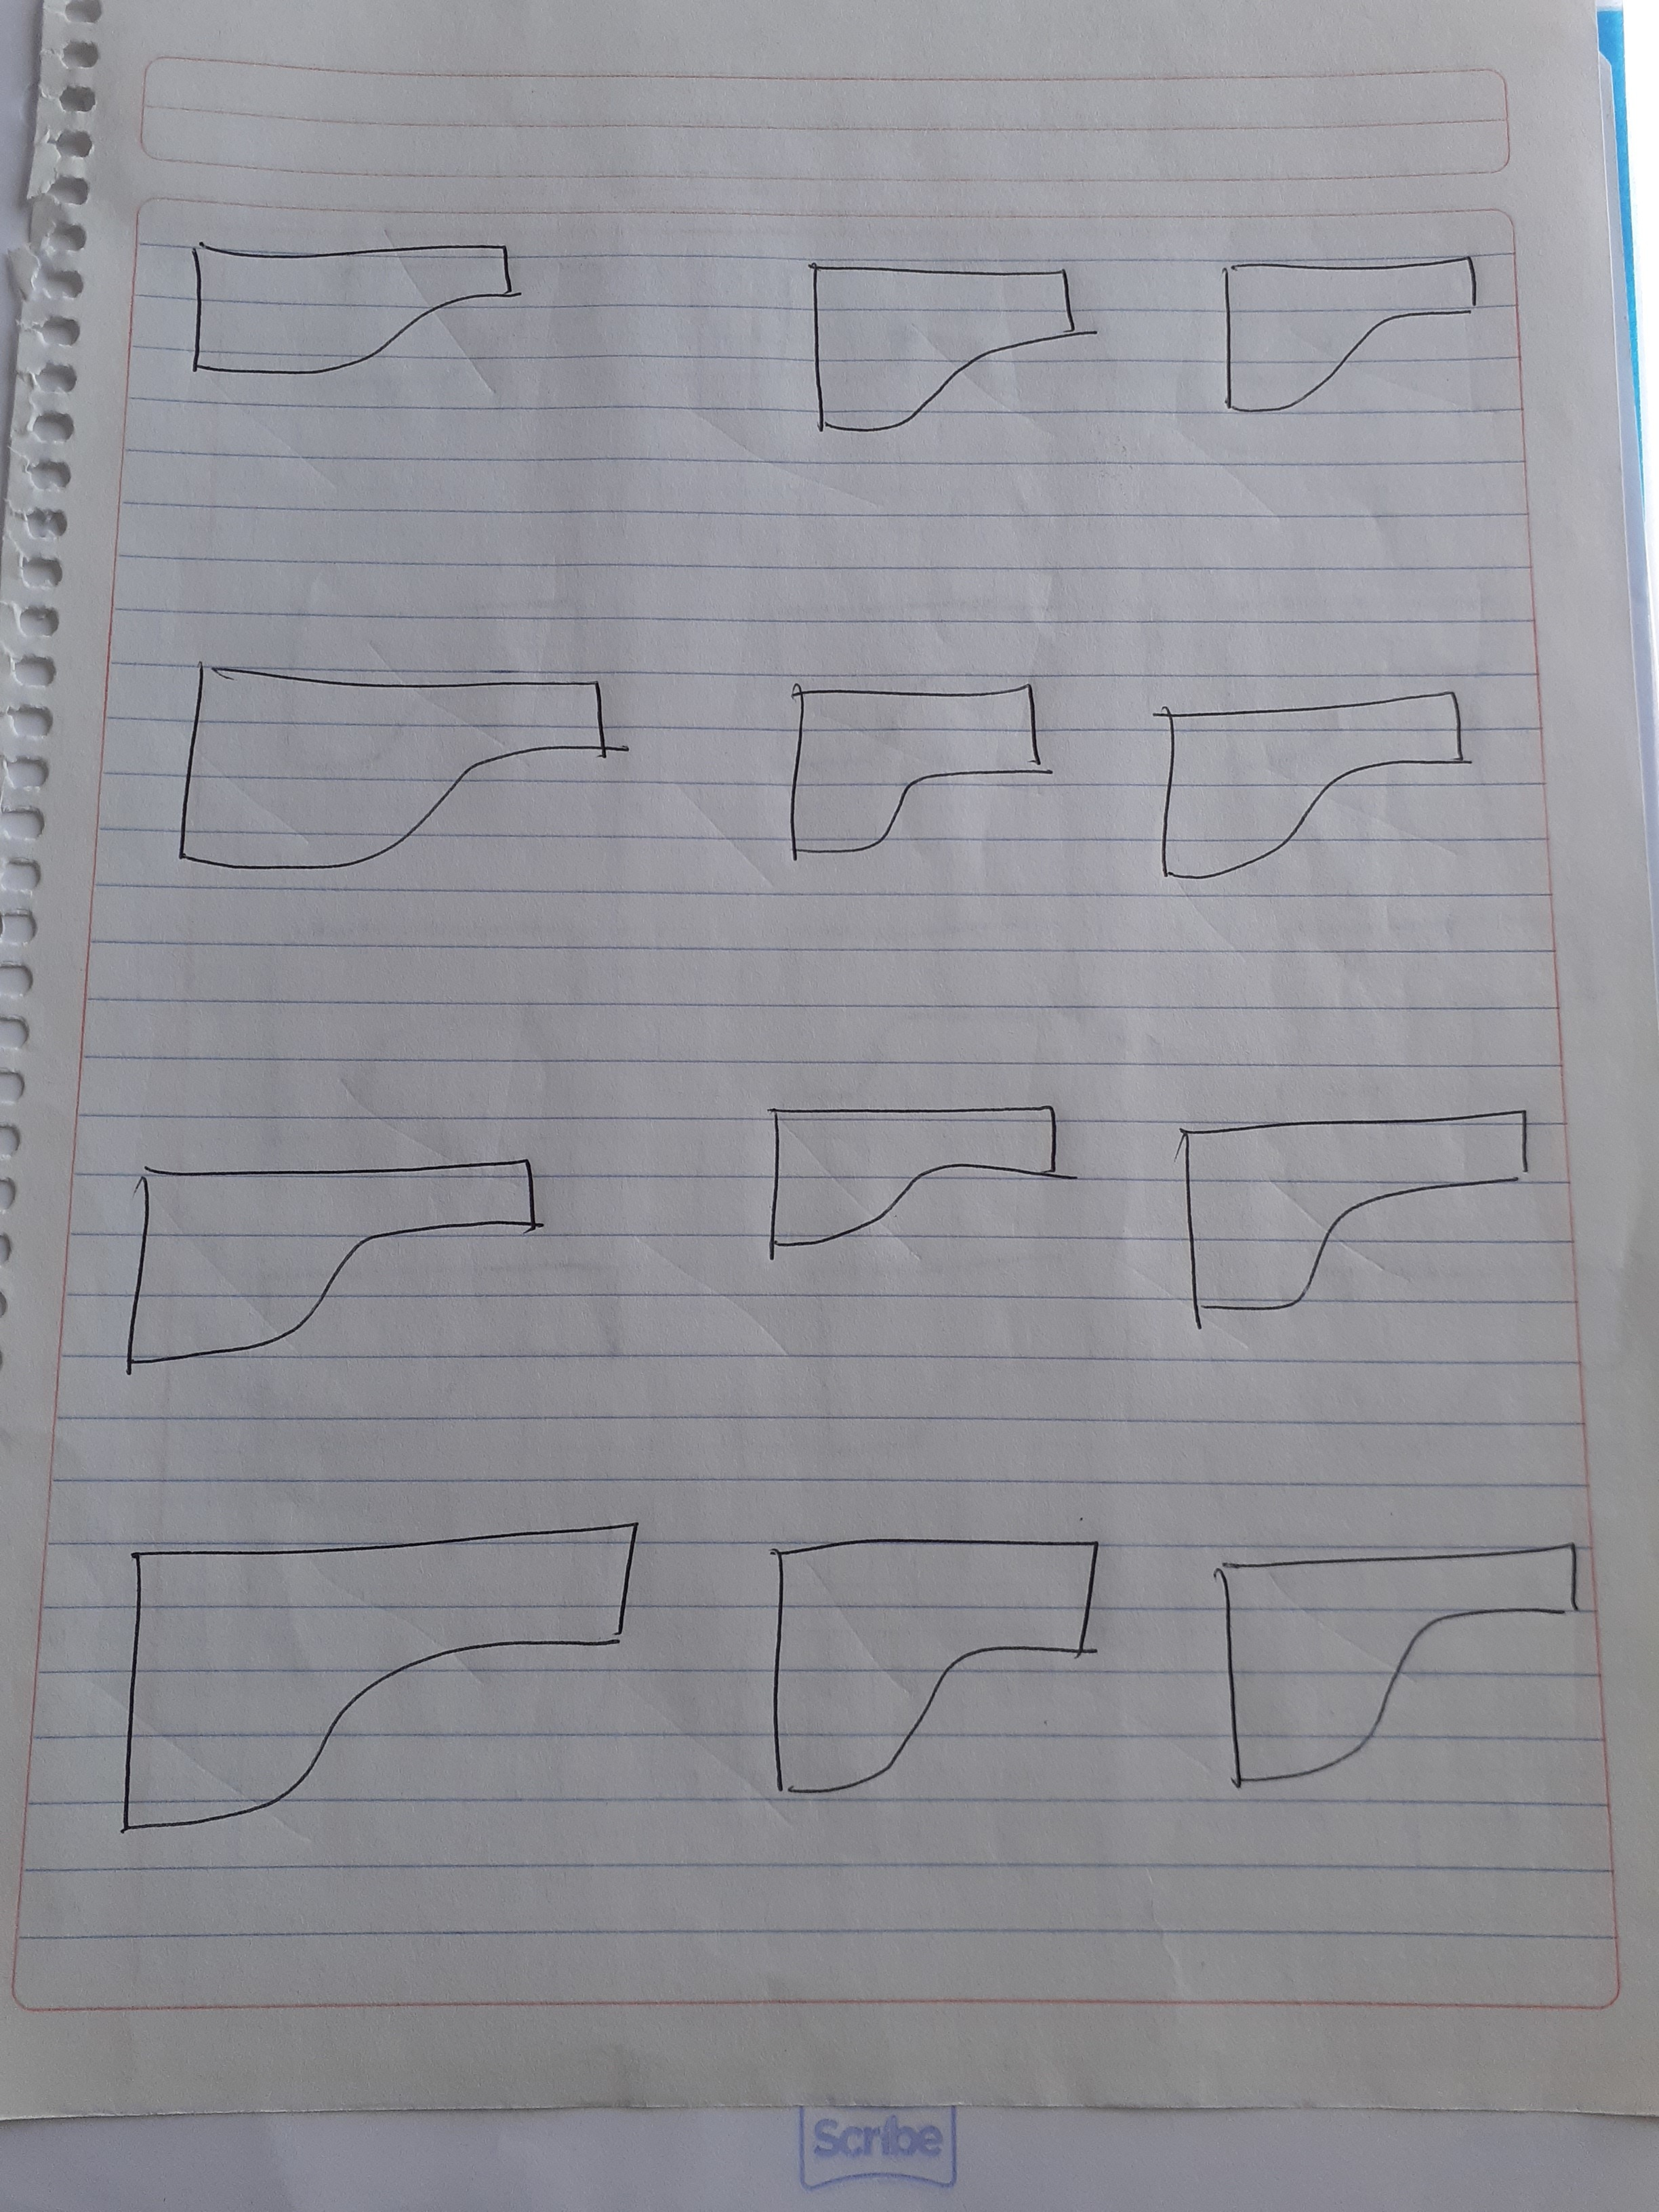print: (68, 1500, 662, 1841), (143, 611, 648, 916), (1162, 1512, 1621, 1827), (96, 1120, 556, 1400), (753, 1515, 1129, 1841), (1154, 1082, 1560, 1325), (753, 629, 1079, 913), (735, 1049, 1094, 1303), (1147, 658, 1502, 892), (774, 218, 1108, 453), (1201, 207, 1488, 469), (160, 195, 544, 385)
